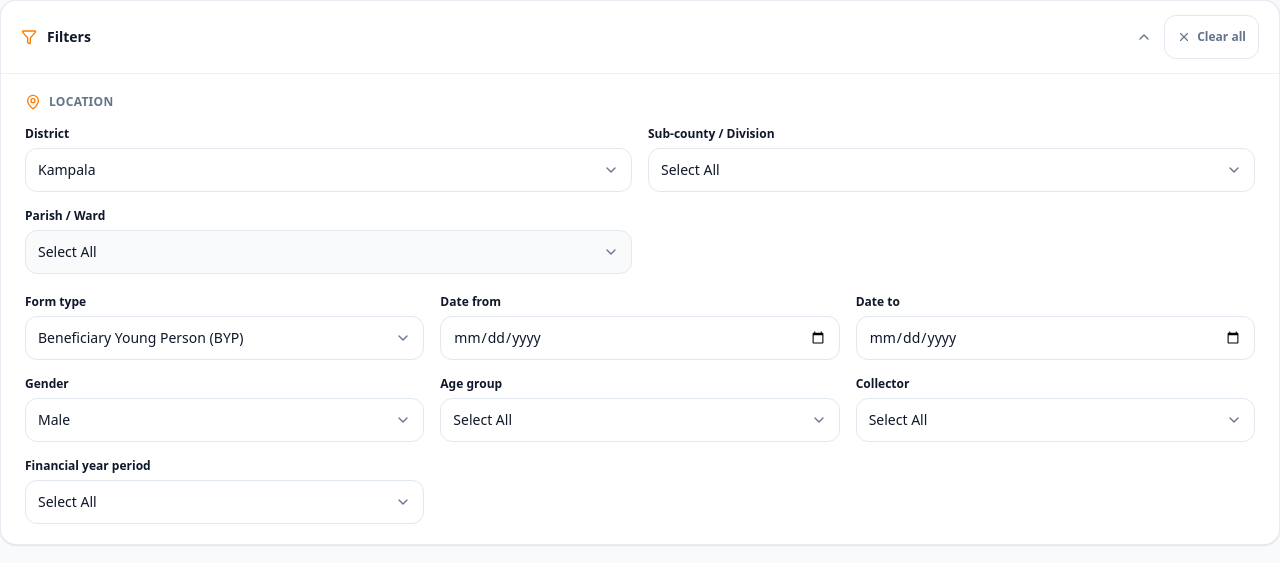
Test: DashboardFilterPanel › clears all filters when Clear all is clicked (TC-DASH-02-04)
Click the button with test id "dashboard-filter-clear-all" at [1212, 37], box [1164,15,1259,59]
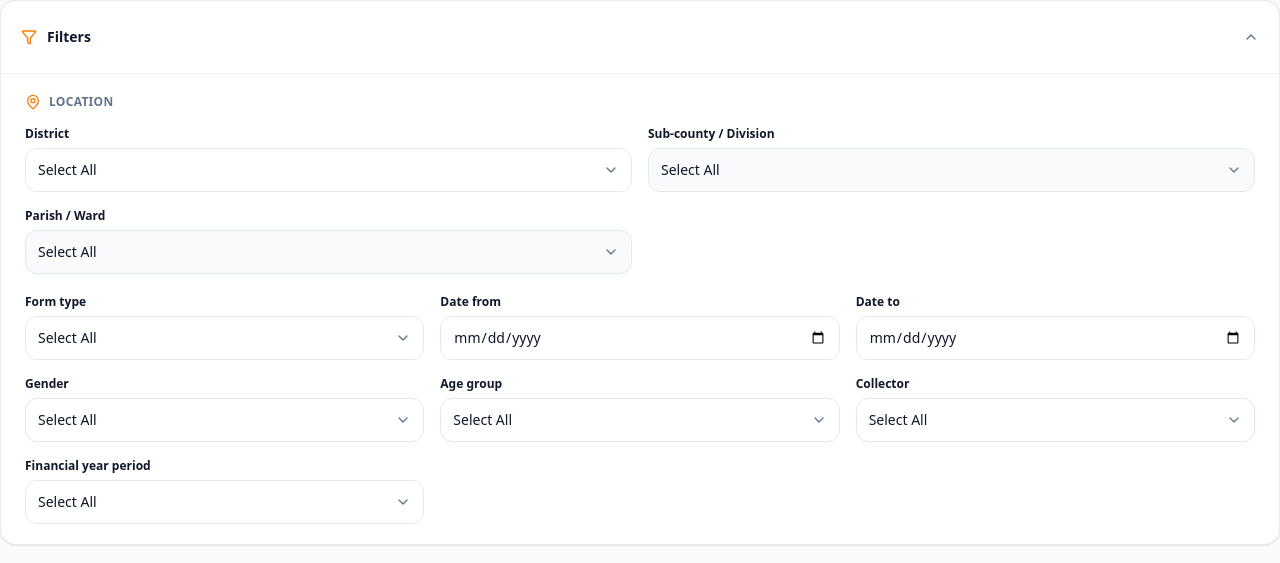
Check: the button with test id "dashboard-filter-clear-all" is gone
